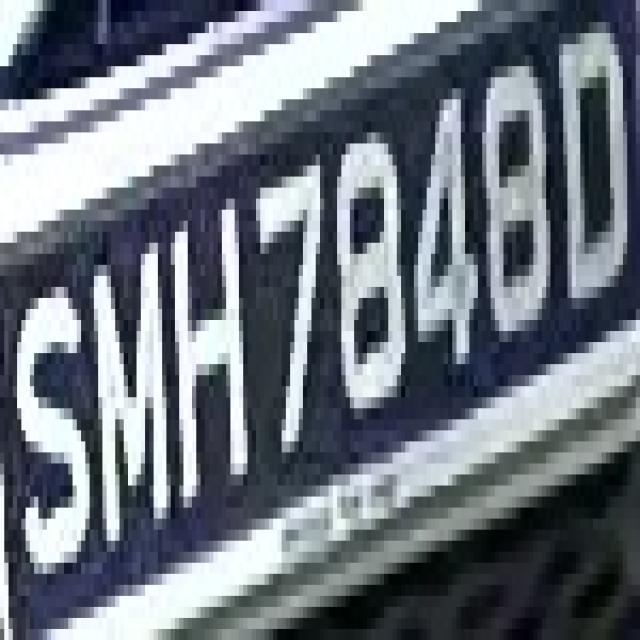4: (392, 67, 487, 430)
7: (248, 121, 328, 496)
8: (320, 77, 410, 486), (469, 33, 555, 408)
D: (554, 11, 636, 353)
H: (158, 177, 252, 540)
M: (81, 209, 175, 552)
S: (4, 221, 98, 607)
